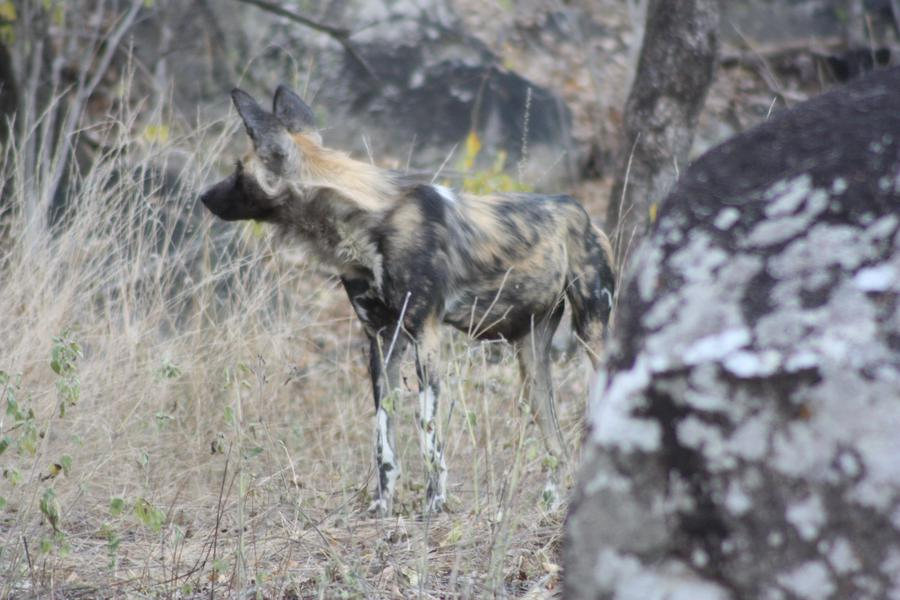wilddog: (295, 136, 656, 359)
